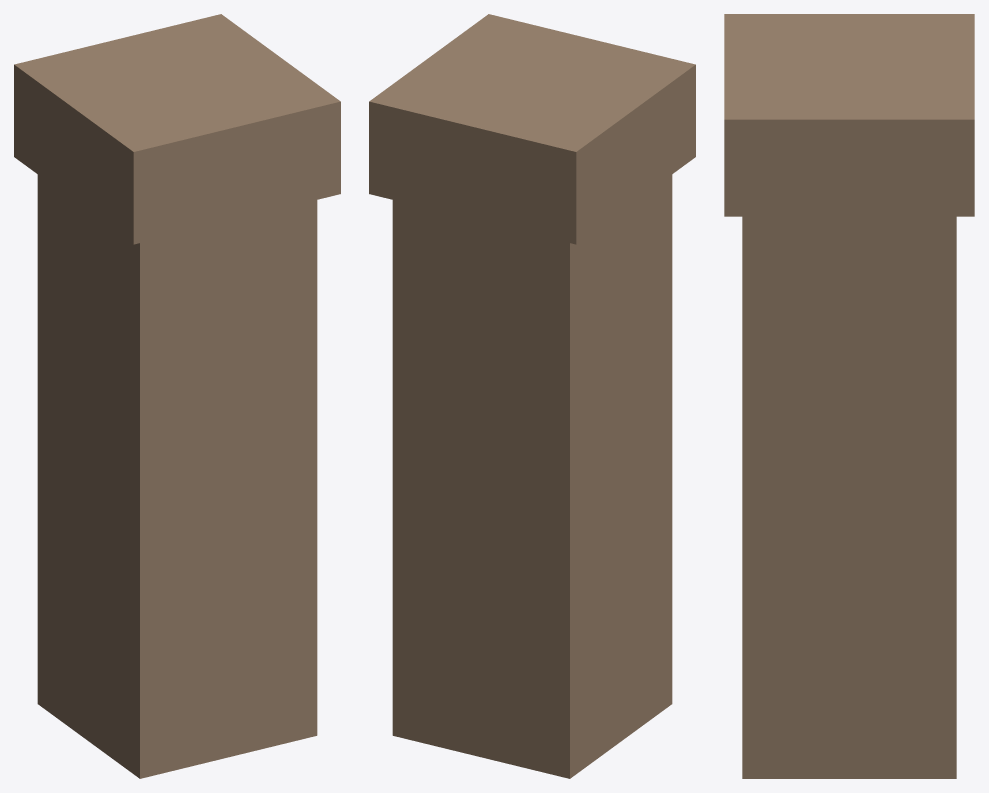
Rendered from SM_Collum 1.fbx.
3 views of the same model, side by side, from view 1: azimuth 30°, elevation 25°; view 2: azimuth 150°, elevation 25°; view 3: azimuth 270°, elevation 25° (orthographic). The views are drawn at different scales.
Parts seen in each view (by area): view 1: polySurface2481; view 2: polySurface2481; view 3: polySurface2481.
Part boxes in pixels (x1=…): polySurface2481: x1=14, y1=14, x2=340, y2=778; polySurface2481: x1=369, y1=14, x2=695, y2=778; polySurface2481: x1=724, y1=14, x2=974, y2=778.
Bounding box in the file's own units: 3.95 × 11.6 × 3.95.
